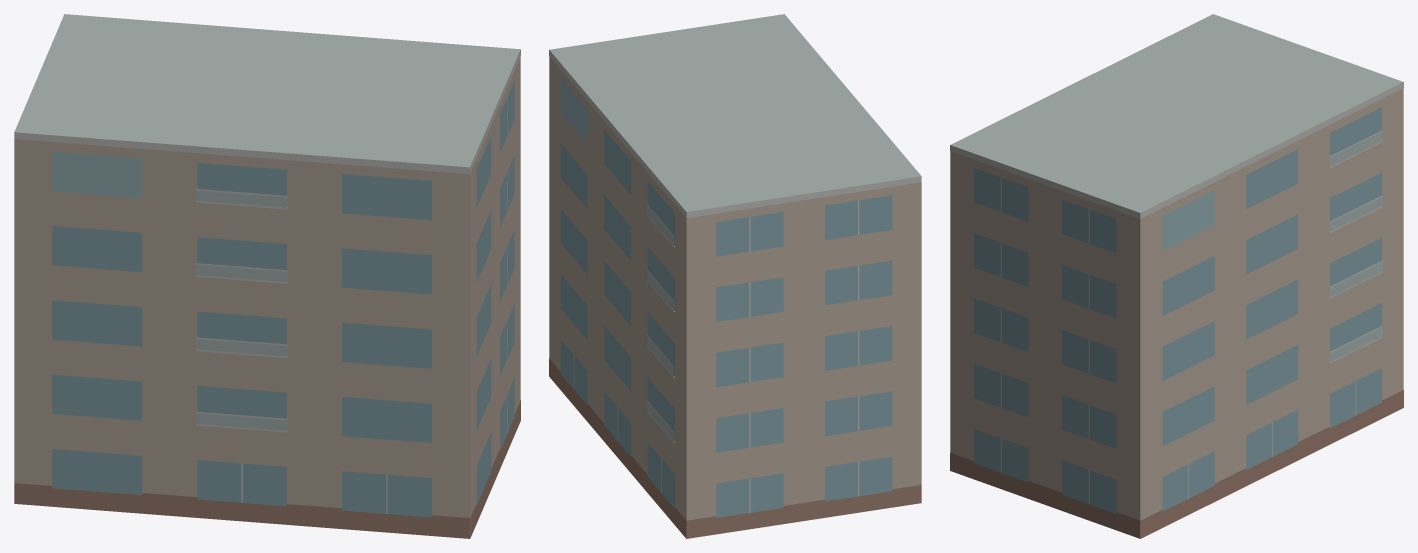
The model's file is survey-upis-32707067.glb.
3 renders of one model, left to right at view 1: azimuth 30°, elevation 25°; view 2: azimuth 150°, elevation 25°; view 3: azimuth 270°, elevation 25°, orthographic. The views are drawn at different scales.
Visible parts, largest first — view 1: survey-upis-32707067.tmp; view 2: survey-upis-32707067.tmp; view 3: survey-upis-32707067.tmp.
Boxes of the visible parts, x1,y1,x2,y2 form: survey-upis-32707067.tmp: (14, 14, 520, 538); survey-upis-32707067.tmp: (549, 14, 921, 538); survey-upis-32707067.tmp: (950, 14, 1403, 538).
Size of the model in its own units: 17.36 by 13.25 by 16.72.
